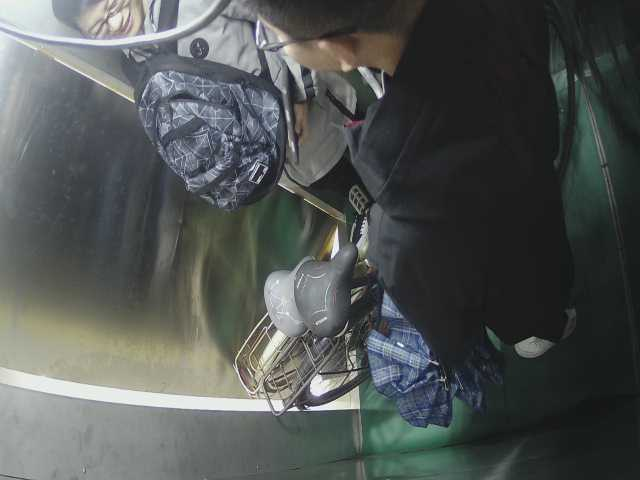bag: (116, 57, 290, 213)
bicycle: (229, 13, 590, 425)
person: (51, 1, 263, 63)
